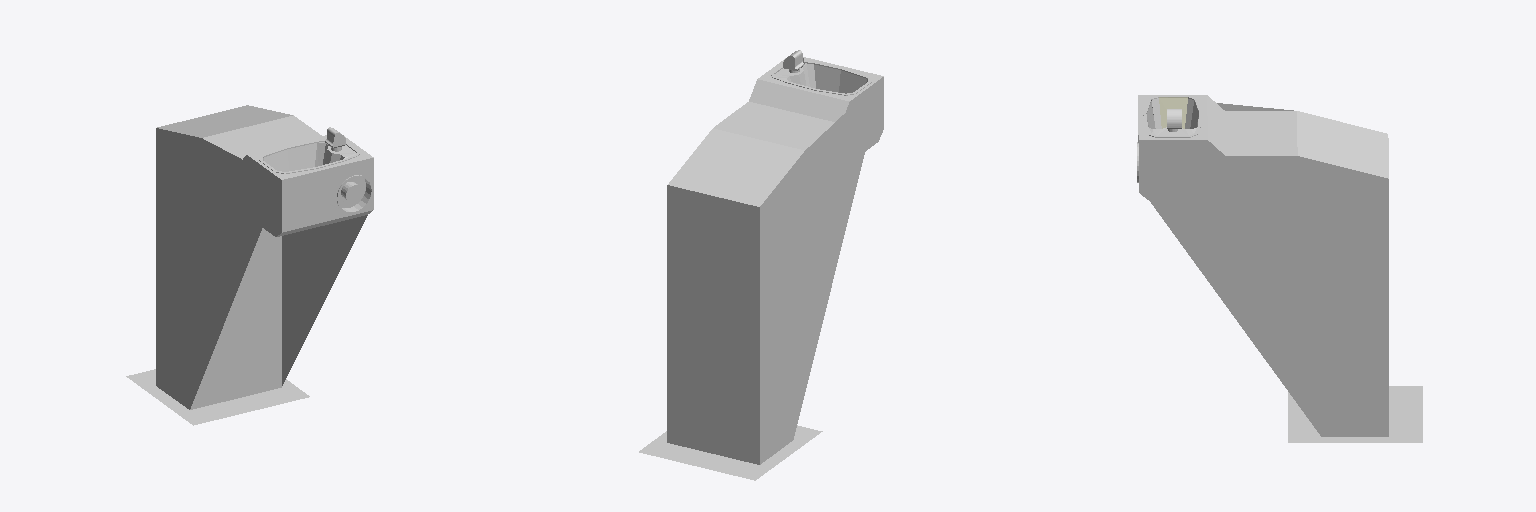
The model's file is waterfountain.obj.
3 renders of one model, left to right at view 1: azimuth 30°, elevation 25°; view 2: azimuth 150°, elevation 25°; view 3: azimuth 270°, elevation 25°, orthographic.
Visible parts, largest first — view 1: Mesh1 Model, Mesh3 Model; view 2: Mesh1 Model, Mesh3 Model; view 3: Mesh1 Model, Mesh3 Model.
Part boxes in pixels (x1,y1,x2,y2): Mesh1 Model: (156, 105, 373, 409); Mesh3 Model: (126, 369, 309, 425); Mesh1 Model: (667, 57, 883, 464); Mesh3 Model: (639, 425, 822, 480); Mesh1 Model: (1137, 95, 1388, 436); Mesh3 Model: (1288, 386, 1422, 442).
Bounding box in the file's own units: 14.01 × 36.08 × 29.49.